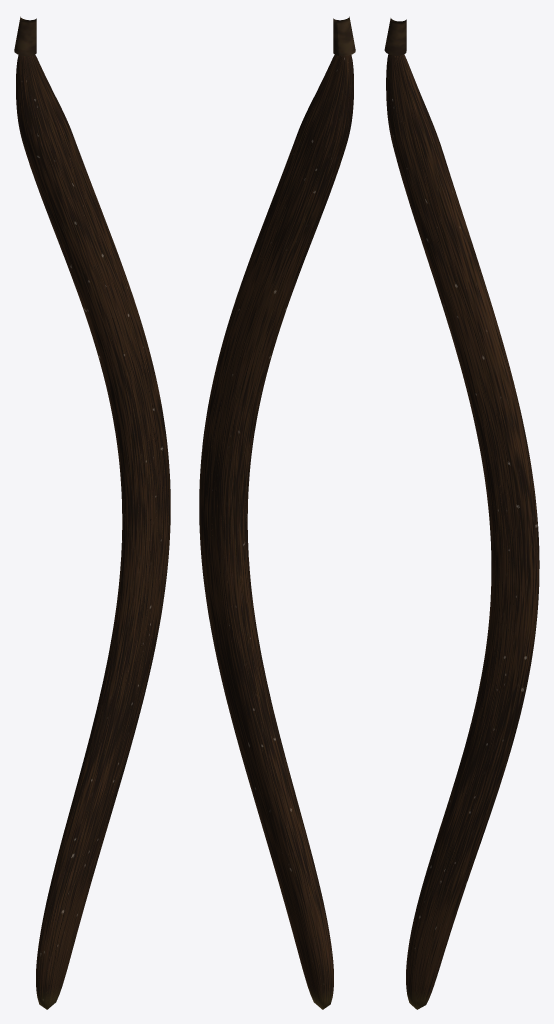
Rendered from vanille.glb.
3 views of the same model, side by side, from view 1: azimuth 30°, elevation 25°; view 2: azimuth 150°, elevation 25°; view 3: azimuth 330°, elevation 25° (orthographic).
Parts seen in each view (by area): view 1: moitie_A_peau, entier_peau, moitie_B_peau, entier_extra0; view 2: moitie_B_peau, entier_peau, moitie_A_peau, entier_extra0; view 3: moitie_A_peau, entier_peau, moitie_B_peau, entier_extra0.
Part boxes in pixels (box(x1,y1,x2,y2)): moitie_A_peau: box(17, 55, 170, 1009); entier_peau: box(16, 55, 170, 1008); moitie_B_peau: box(16, 55, 123, 1004); entier_extra0: box(14, 16, 36, 56); moitie_B_peau: box(199, 55, 352, 1009); entier_peau: box(199, 55, 353, 1008); moitie_A_peau: box(246, 55, 353, 1004); entier_extra0: box(333, 16, 355, 56); moitie_A_peau: box(386, 54, 538, 1009); entier_peau: box(386, 54, 539, 1008); moitie_B_peau: box(404, 54, 539, 1004); entier_extra0: box(384, 18, 406, 55).
Bounding box in the file's own units: 0.0282 × 0.1751 × 0.00577.
Materials: 3 (3 with a texture image).
